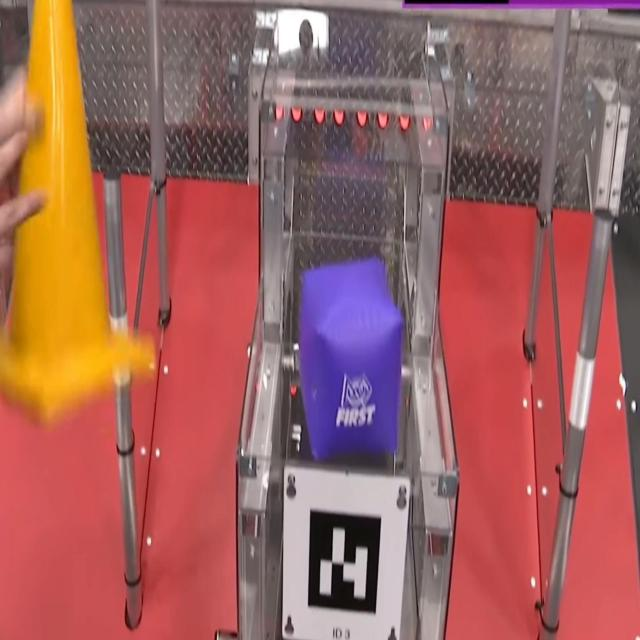frc_cone: (0, 0, 158, 424)
frc_cube: (300, 255, 405, 461)
